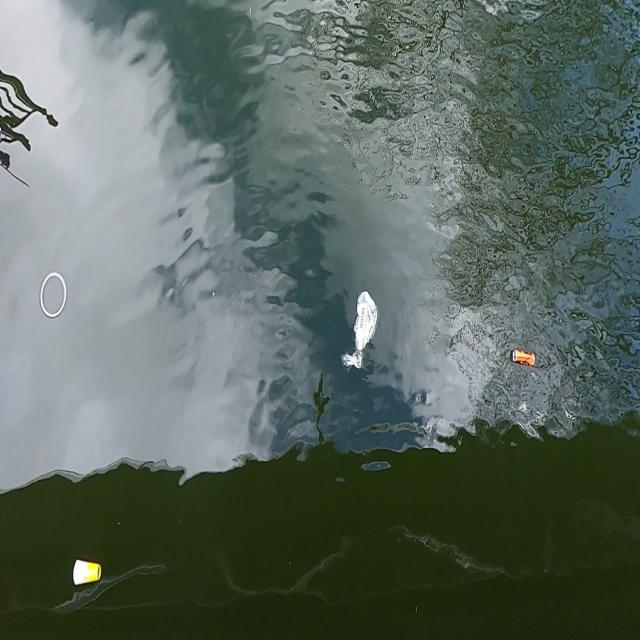Non plastique: (69, 555, 105, 597), (510, 341, 541, 374)
Sac plastique: (340, 286, 380, 379)
